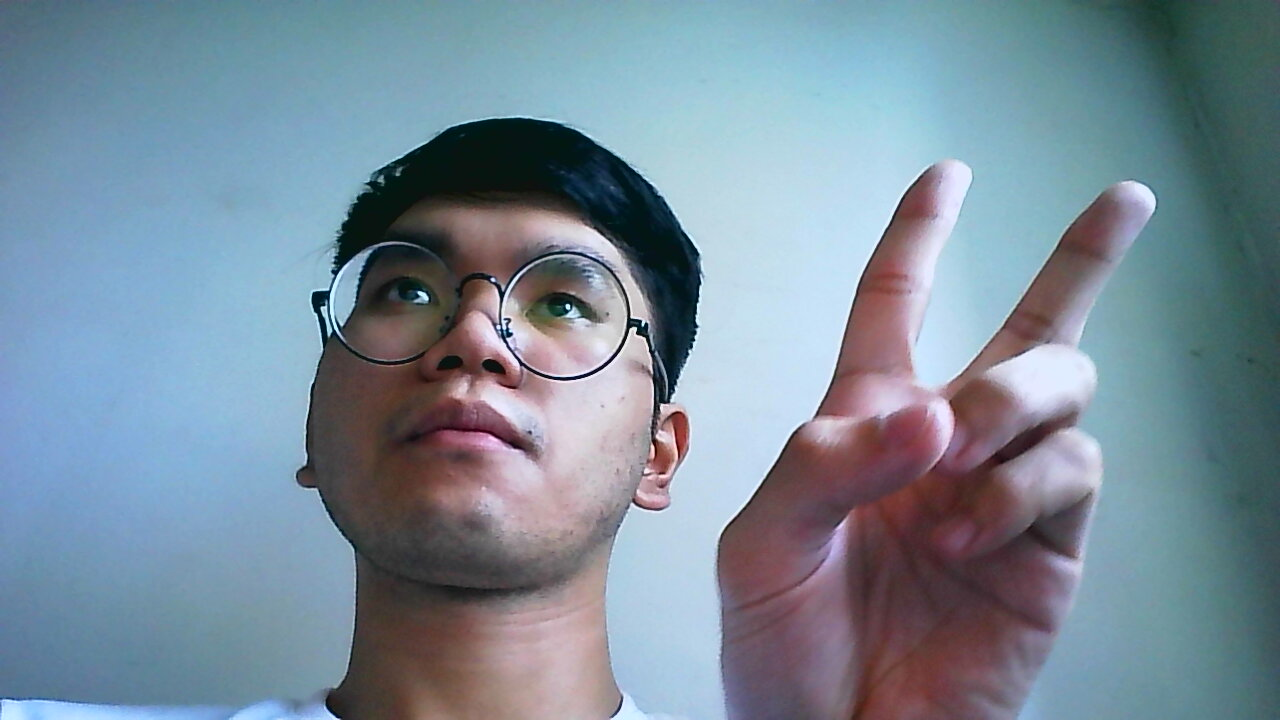peace: (715, 158, 1159, 720)
